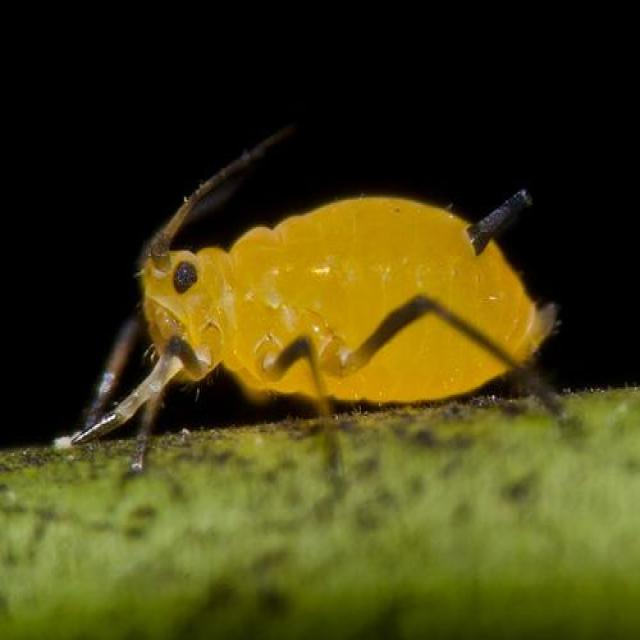Aphids: (55, 108, 599, 502)
